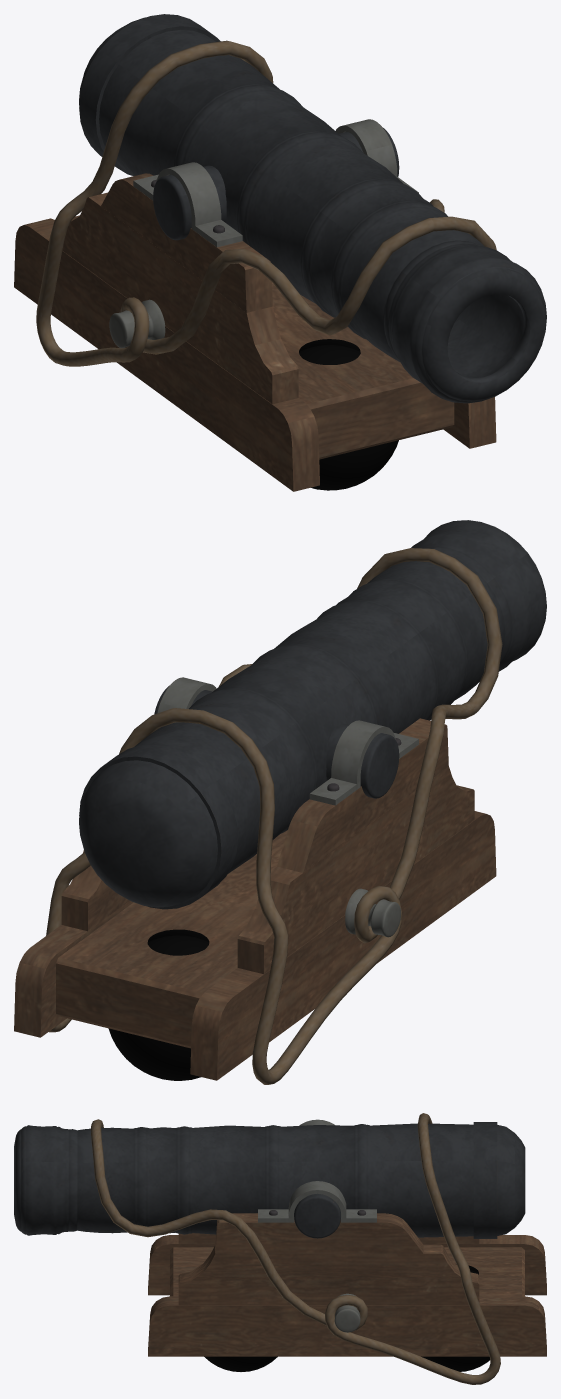
File: cannon.glb
3 views of the same model, one above another, from view 1: azimuth 30°, elevation 25°; view 2: azimuth 150°, elevation 25°; view 3: azimuth 270°, elevation 25° (orthographic). The views are drawn at different scales.
Parts seen in each view (by area): view 1: CannonBody, CannonRopes, CannonWheelFront; view 2: CannonBody, CannonRopes, CannonWheelBack; view 3: CannonBody, CannonRopes, CannonWheelFront, CannonWheelBack.
Part boxes in pixels (left/top/right/bottom): CannonBody: left=14, top=14, right=546, bottom=491; CannonRopes: left=36, top=40, right=496, bottom=366; CannonWheelFront: left=299, top=345, right=398, bottom=490; CannonBody: left=14, top=520, right=546, bottom=1080; CannonRopes: left=46, top=548, right=502, bottom=1084; CannonWheelBack: left=108, top=935, right=209, bottom=1080; CannonBody: left=14, top=1119, right=546, bottom=1356; CannonRopes: left=90, top=1113, right=500, bottom=1384; CannonWheelFront: left=204, top=1356, right=277, bottom=1371; CannonWheelBack: left=421, top=1270, right=489, bottom=1371.
Size of the model in its own units: 4.38 by 5.24 by 10.25.
Materials: 3 (2 with a texture image).
